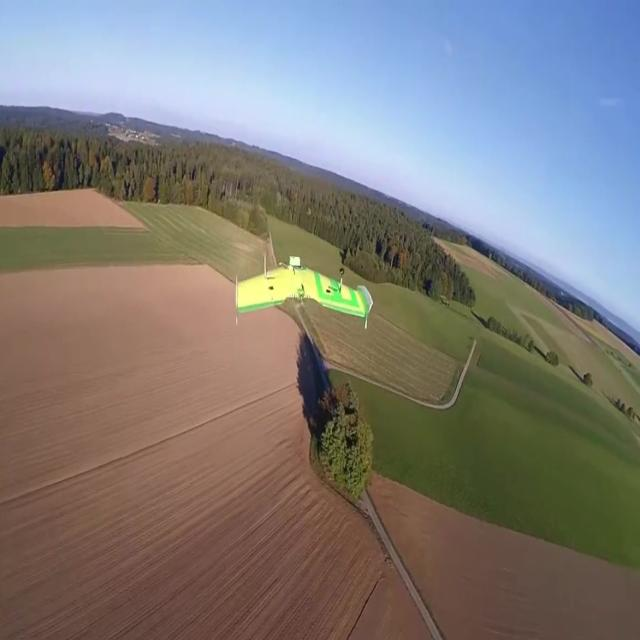iha: (233, 285, 373, 305)
